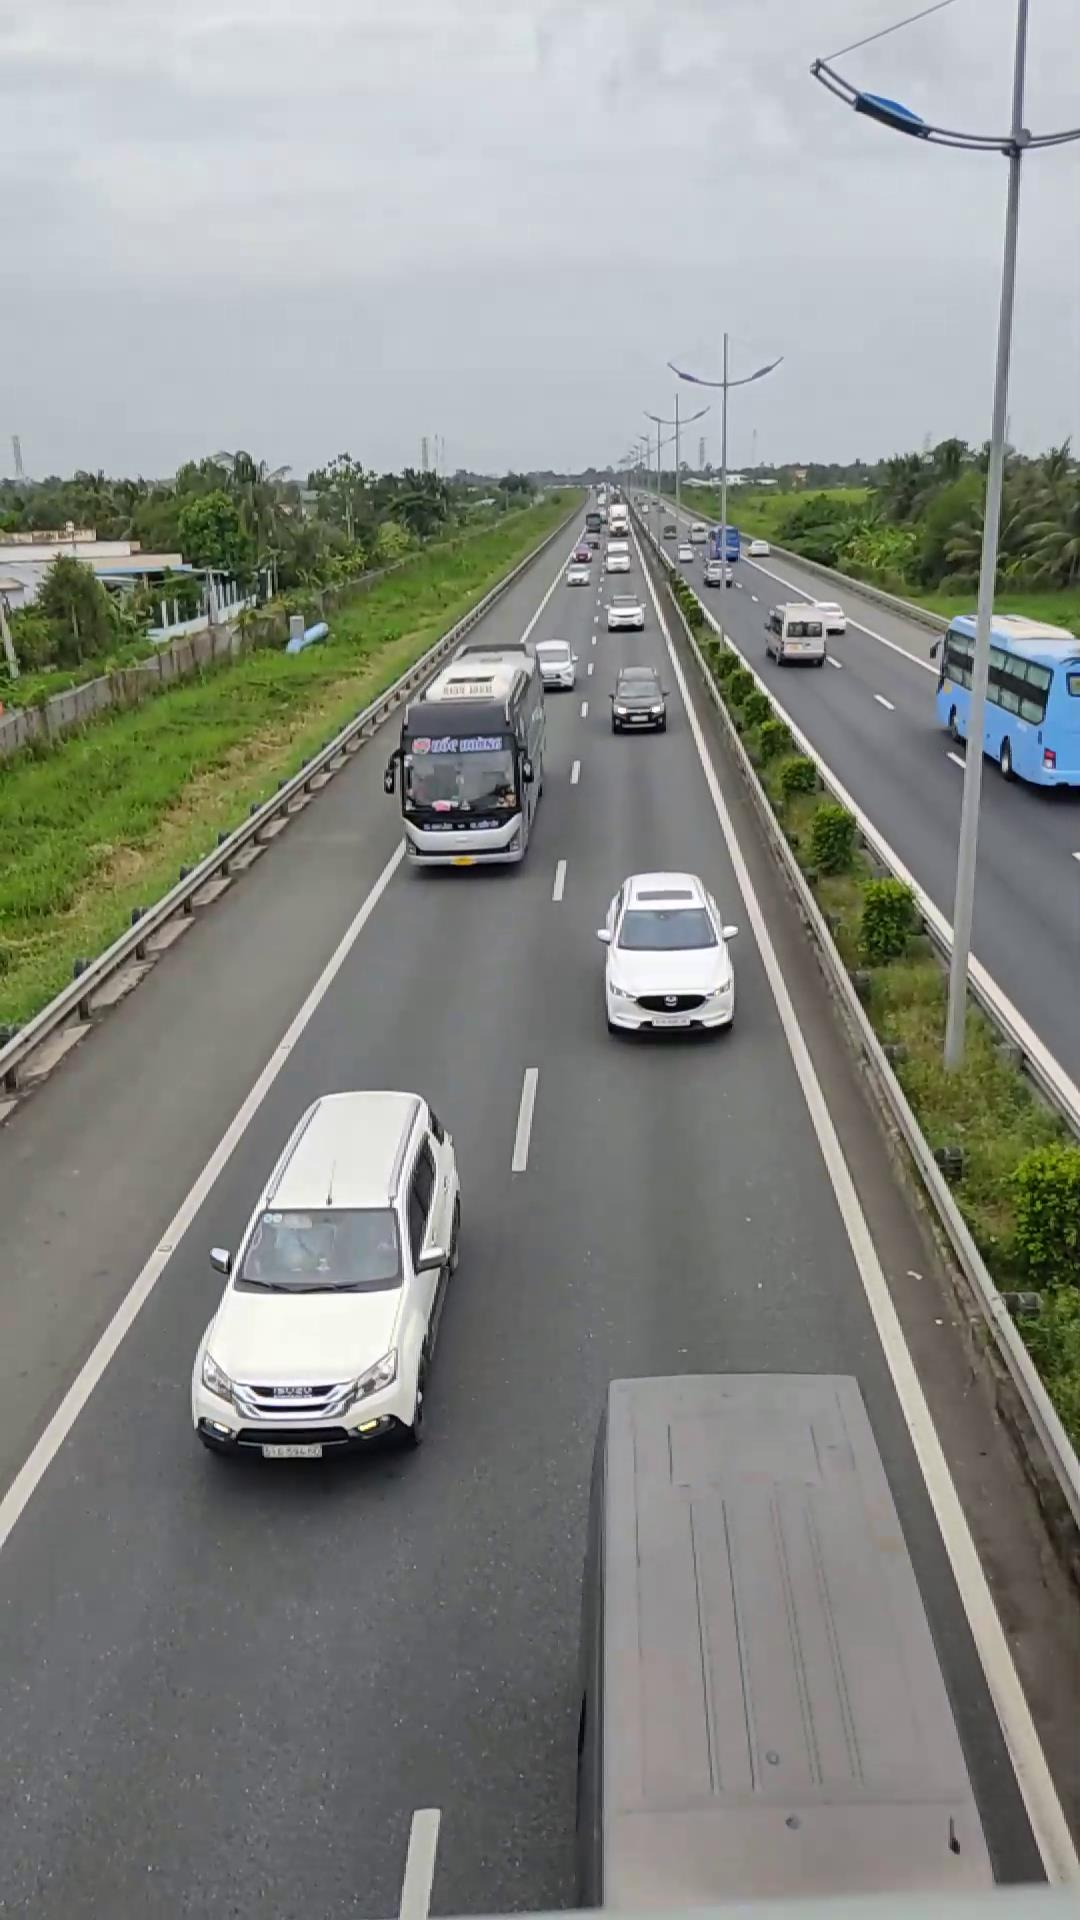bus: (391, 644, 547, 869)
car: (574, 1364, 1002, 1901), (187, 1087, 463, 1462), (595, 870, 739, 1038), (608, 667, 671, 732)
